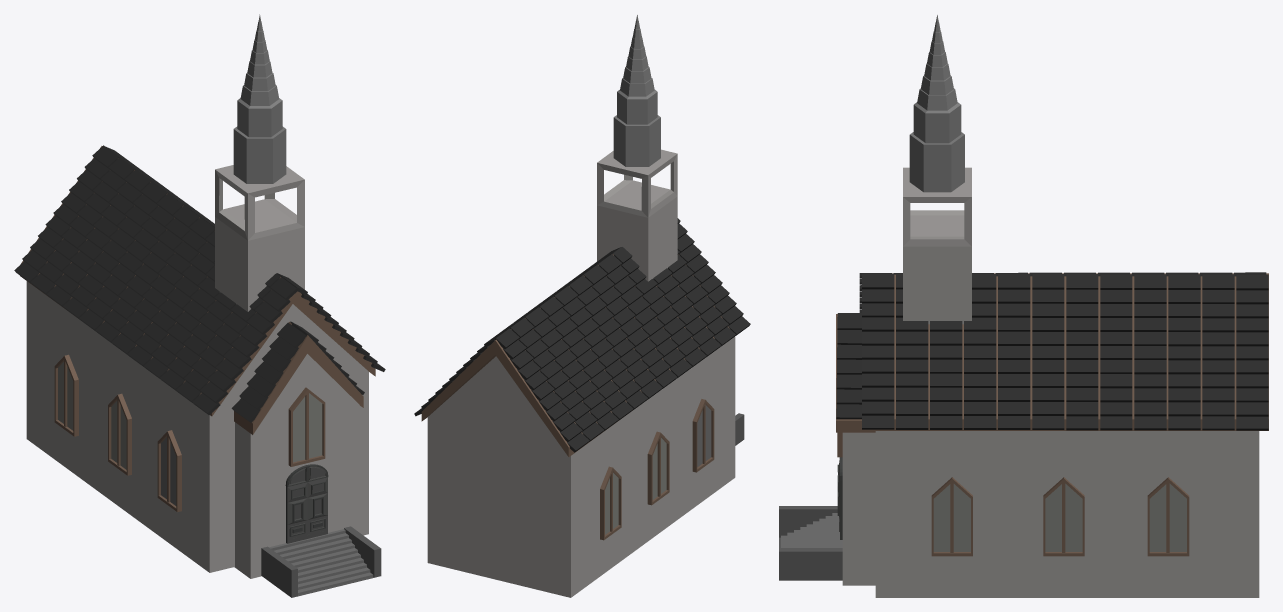
Rendered from church2.fbx.
The picture shows the model from 3 angles, left to right: view 1: azimuth 30°, elevation 25°; view 2: azimuth 150°, elevation 25°; view 3: azimuth 270°, elevation 25°; orthographic projection. The views are drawn at different scales.
Visible parts, largest first — view 1: Cube.019, Cube.021, Cube.003, Cube.004, Cube.025, Cylinder, Cube.023, Cube.017, Cube.024, Cube.010, Cube.008, Cube.009 (+1 smaller); view 2: Cube.019, Cube.021, Cube.003, Cube.004, Cube.009, Cube.010, Cube.008, Cube.000; view 3: Cube.019, Cube.000, Cube.003, Cube.004, Cube.024, Cube.007, Cube.005, Cube.006, Cube.022, Cube.025, Cube.021.
Part boxes in pixels (x1,y1,x2,y2): Cube.019: [20, 146, 375, 578]; Cube.021: [14, 145, 298, 415]; Cube.003: [215, 165, 304, 311]; Cube.004: [233, 14, 286, 183]; Cube.025: [269, 529, 373, 594]; Cylinder: [285, 464, 328, 543]; Cube.023: [231, 322, 305, 422]; Cube.017: [288, 387, 325, 466]; Cube.024: [261, 526, 381, 597]; Cube.010: [157, 430, 181, 512]; Cube.008: [54, 354, 78, 436]; Cube.009: [108, 393, 131, 475]; Cube.019: [421, 254, 735, 597]; Cube.021: [495, 218, 750, 452]; Cube.003: [597, 149, 677, 281]; Cube.004: [613, 15, 660, 166]; Cube.009: [647, 431, 669, 505]; Cube.010: [692, 399, 714, 472]; Cube.008: [600, 466, 621, 540]; Cube.000: [414, 247, 621, 416]; Cube.019: [836, 273, 1268, 597]; Cube.000: [862, 273, 1268, 430]; Cube.003: [903, 167, 971, 324]; Cube.004: [909, 15, 964, 192]; Cube.024: [779, 506, 842, 580]; Cube.007: [1147, 477, 1189, 556]; Cube.005: [931, 477, 972, 556]; Cube.006: [1043, 477, 1084, 556]; Cube.022: [836, 313, 861, 419]; Cube.025: [781, 513, 842, 547]; Cube.021: [859, 272, 1266, 312].
Size of the model in its own units: 914 by 2522 by 2057.
